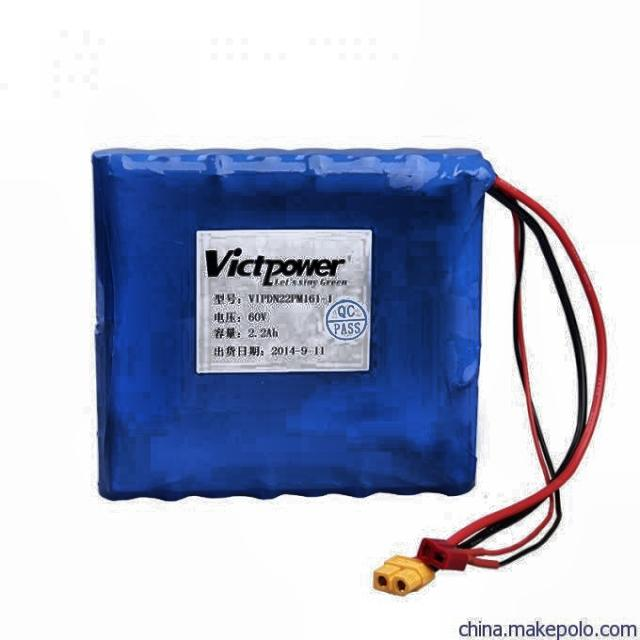Non-Valuable Waste - Batteries: (94, 149, 495, 499)
